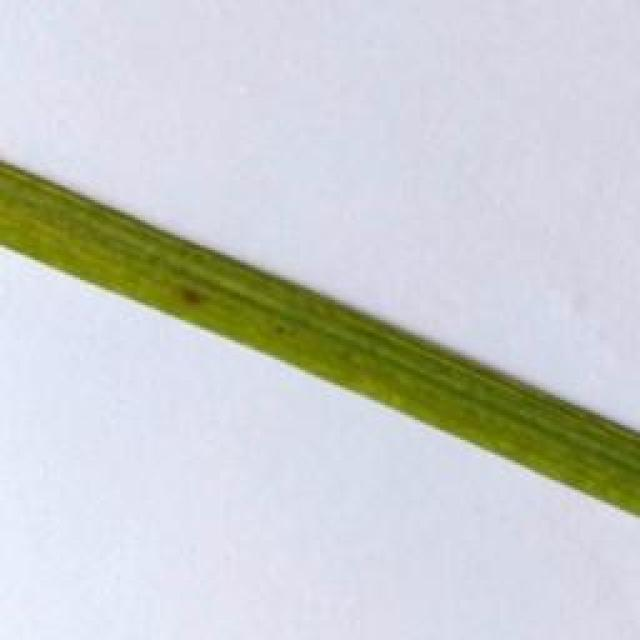Brown_Spot: (172, 275, 208, 314)
